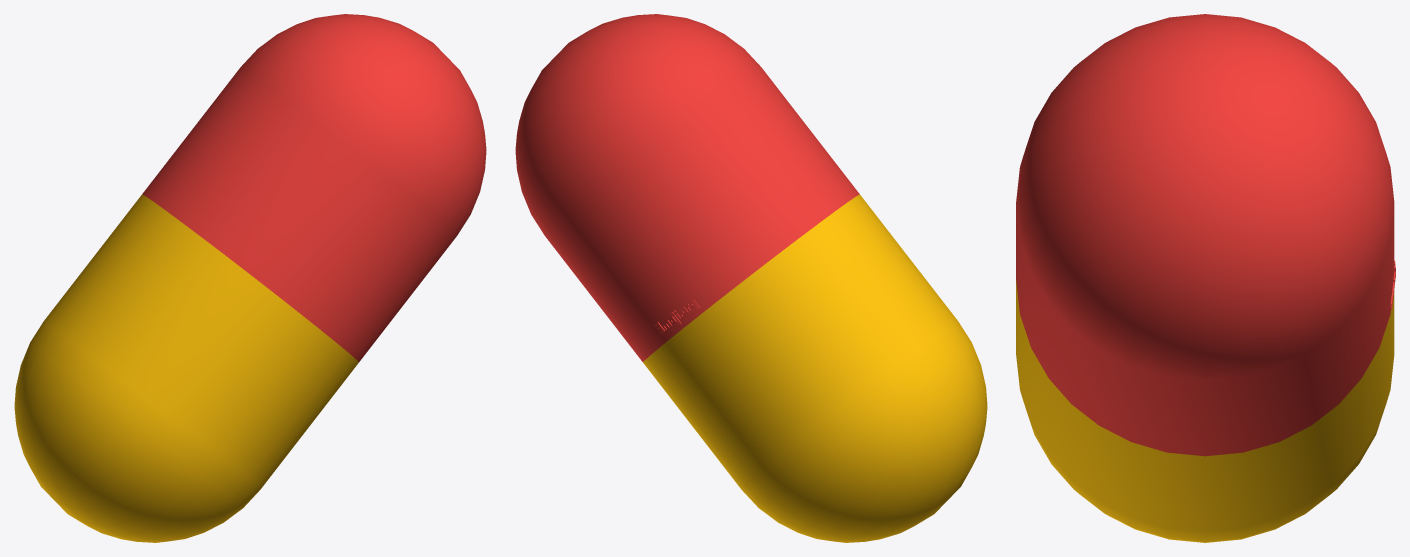
Rendered from pill.gltf.
The picture shows the model from 3 angles, left to right: view 1: azimuth 30°, elevation 25°; view 2: azimuth 150°, elevation 25°; view 3: azimuth 270°, elevation 25°; orthographic projection. The views are drawn at different scales.
Parts seen in each view (by area): view 1: Cube.1005; view 2: Cube.1005; view 3: Cube.1005.
Boxes of the visible parts, box(x1,y1,x2,y2) form: Cube.1005: box(14, 14, 486, 542); Cube.1005: box(515, 14, 987, 542); Cube.1005: box(1016, 14, 1395, 542).
Size of the model in its own units: 2.25 by 2.25 by 1.24.
Materials: 1 (1 with a texture image).
